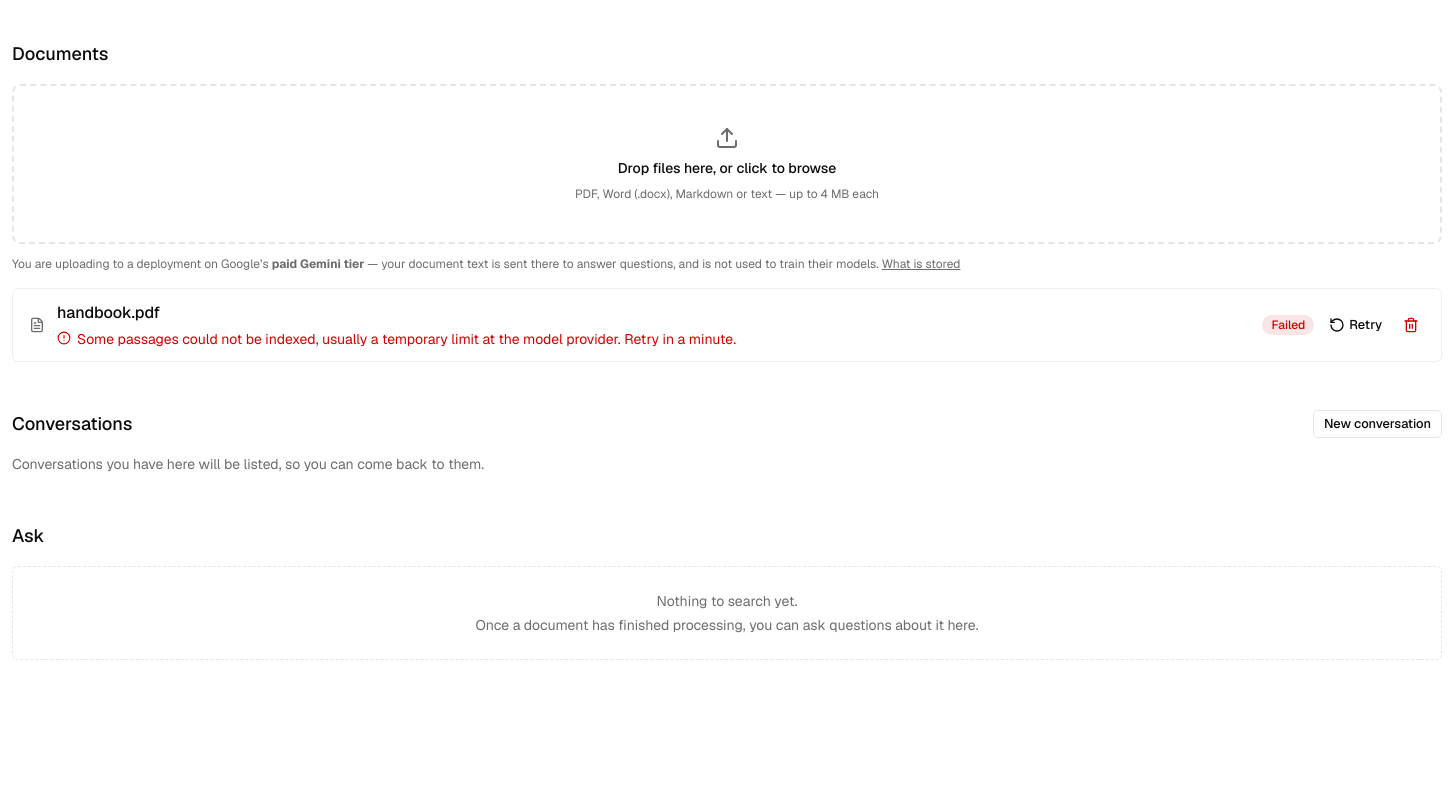
a delete or retry that fails › says what to do when a retry was refused because the session ended
Click the button "Retry".
click(1356, 325)  # box [1318, 311, 1393, 339]
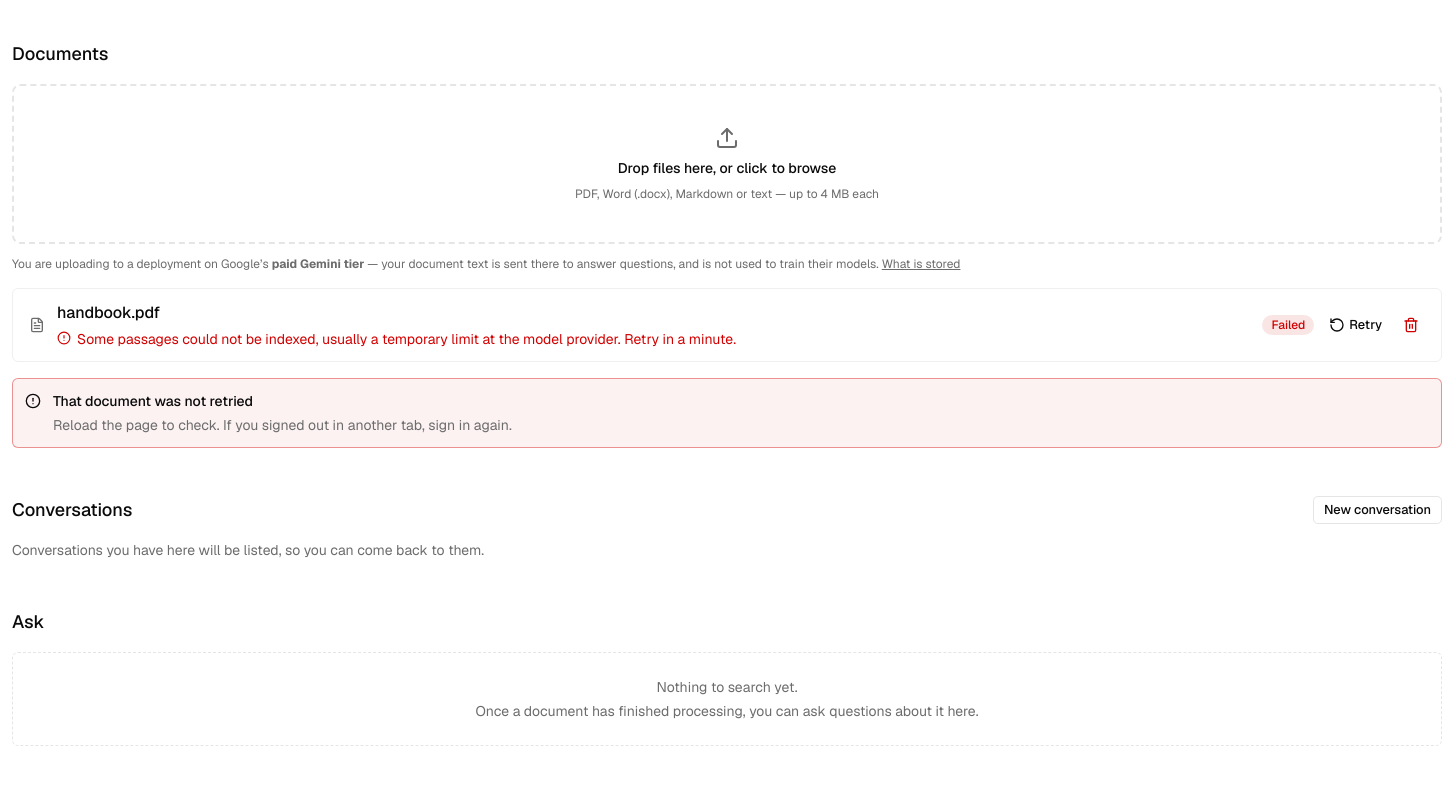
Expected: the text "Reload the page to check. If you signed out in another tab, sign in again." is shown, [53, 416, 512, 434]
